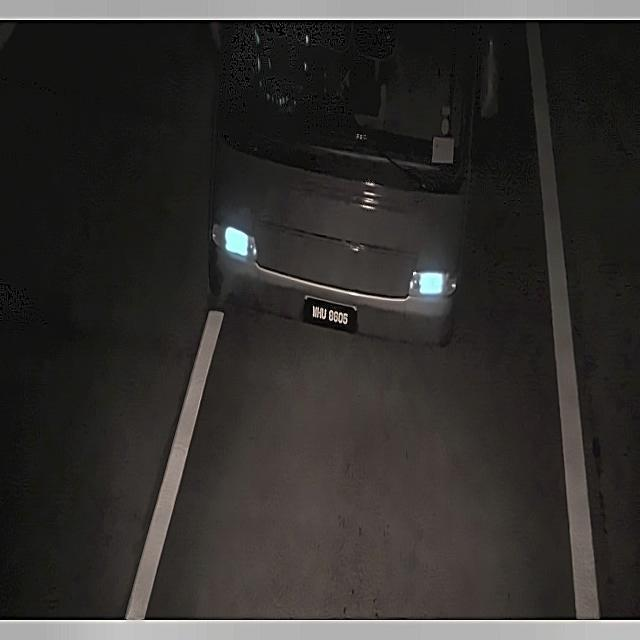car: (303, 320, 347, 343)
